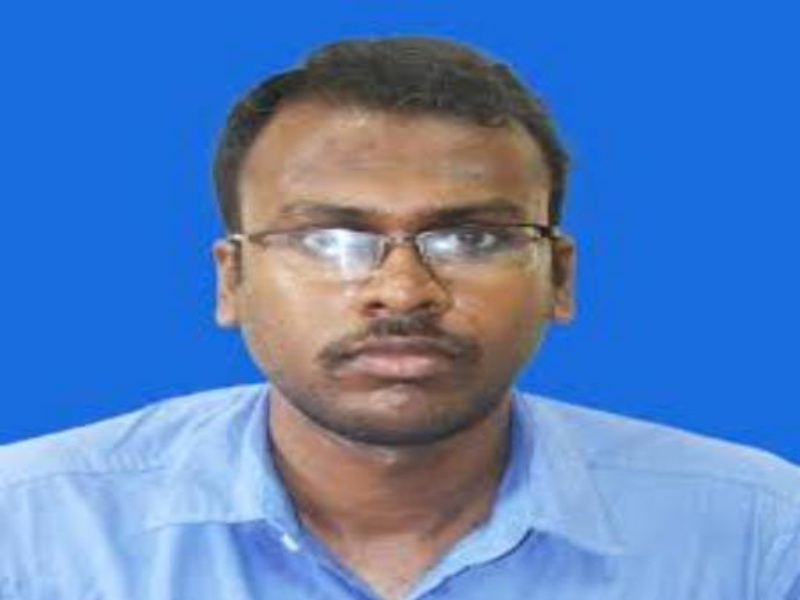TsisyArotava: (202, 35, 588, 450)
